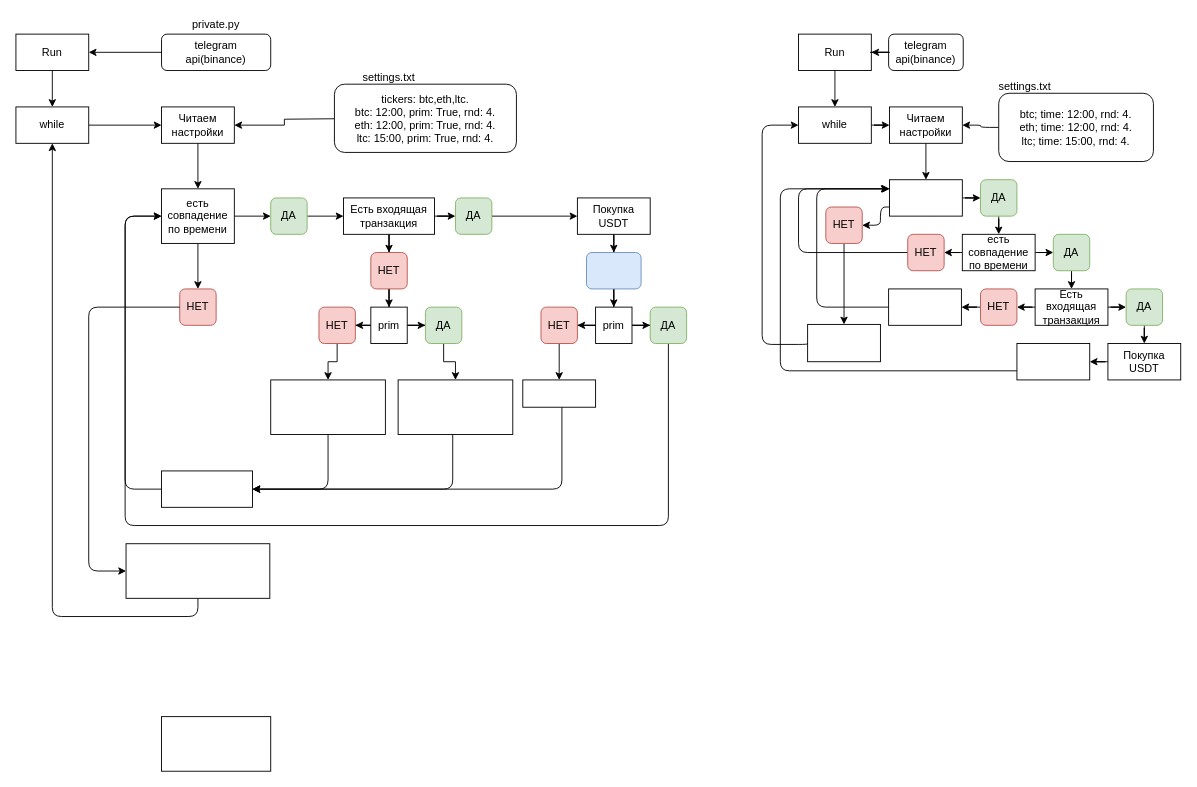
Some shapes in this 1197 by 787 pixel diagram are drawn without their labels. The centre of each missing label's shape, as x and y in pixels:
telegram: (613,270)
если time+1h < 24:00 изменить sec "+1h": (455,407)
если time+1h < 24:00 Создать sec "+1h": (327,407)
есть строки: (925,197)
Ждём ближайшего следующего времени.(Если нет, ждём полночь): (197,570)
ждём полночь: (843,343)
перезаливаем settings.txt: (207,488)
тикер +1h: (924,306)
удалить sec: (559,393)
удалить тикер: (1053,361)
